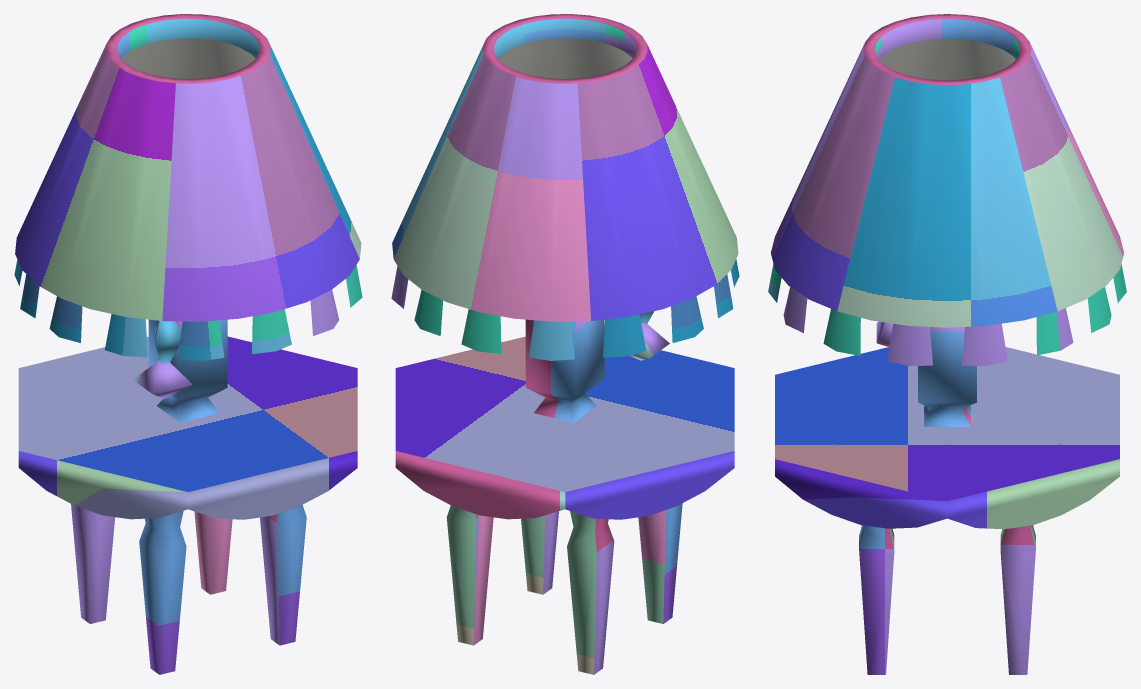
The model's file is rmk_ryl_lamp_jwl.dae.
The picture shows the model from 3 angles, left to right: view 1: azimuth 30°, elevation 25°; view 2: azimuth 150°, elevation 25°; view 3: azimuth 270°, elevation 25°; orthographic projection.
Parts seen in each view (by area): view 1: rmk_ryl_lamp_jwl; view 2: rmk_ryl_lamp_jwl; view 3: rmk_ryl_lamp_jwl.
Part boxes in pixels (bbox=[...]): rmk_ryl_lamp_jwl: bbox=[14, 14, 362, 674]; rmk_ryl_lamp_jwl: bbox=[391, 14, 739, 674]; rmk_ryl_lamp_jwl: bbox=[768, 14, 1126, 674].
Bounding box in the file's own units: 27.07 × 44.32 × 24.36.
2 materials, 2 textured.
